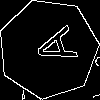A: (23, 24, 78, 71)
